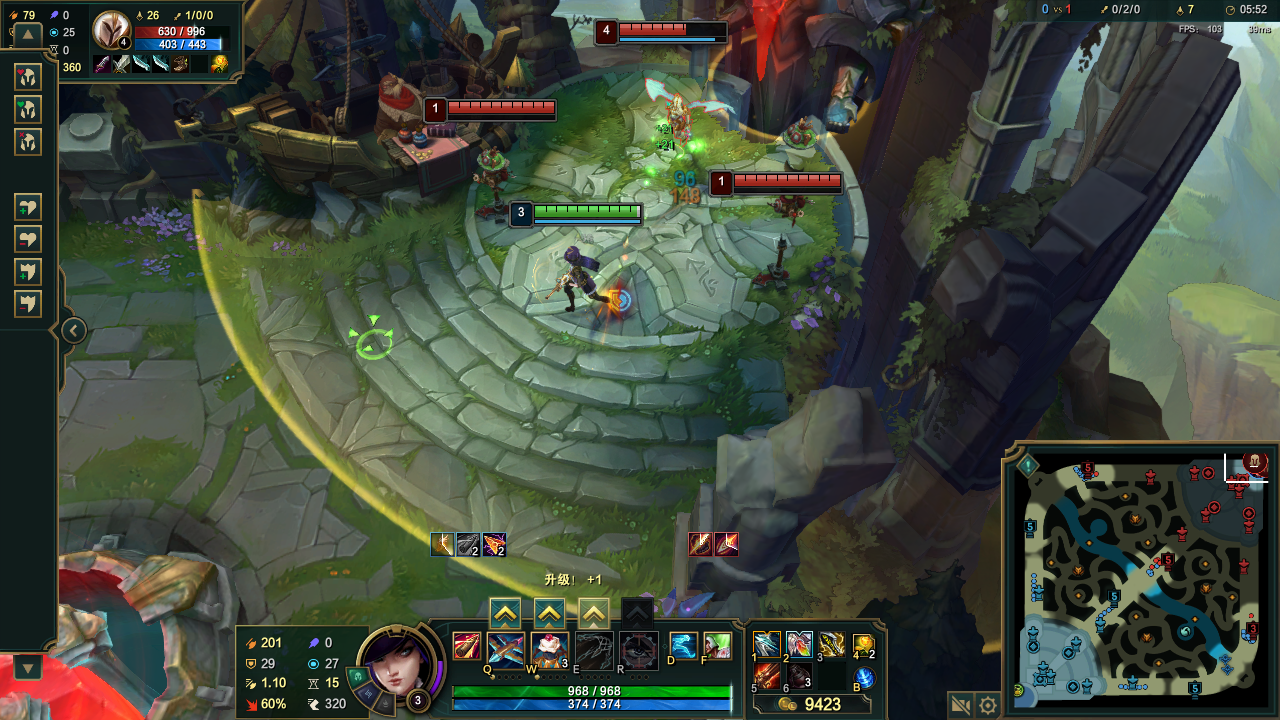DFYX: (734, 171, 845, 185), (617, 20, 729, 33), (447, 99, 556, 111)
